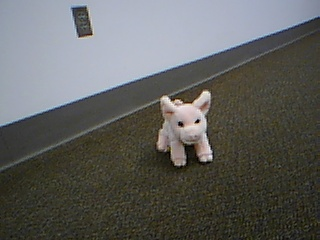piggy: (155, 88, 215, 168)
